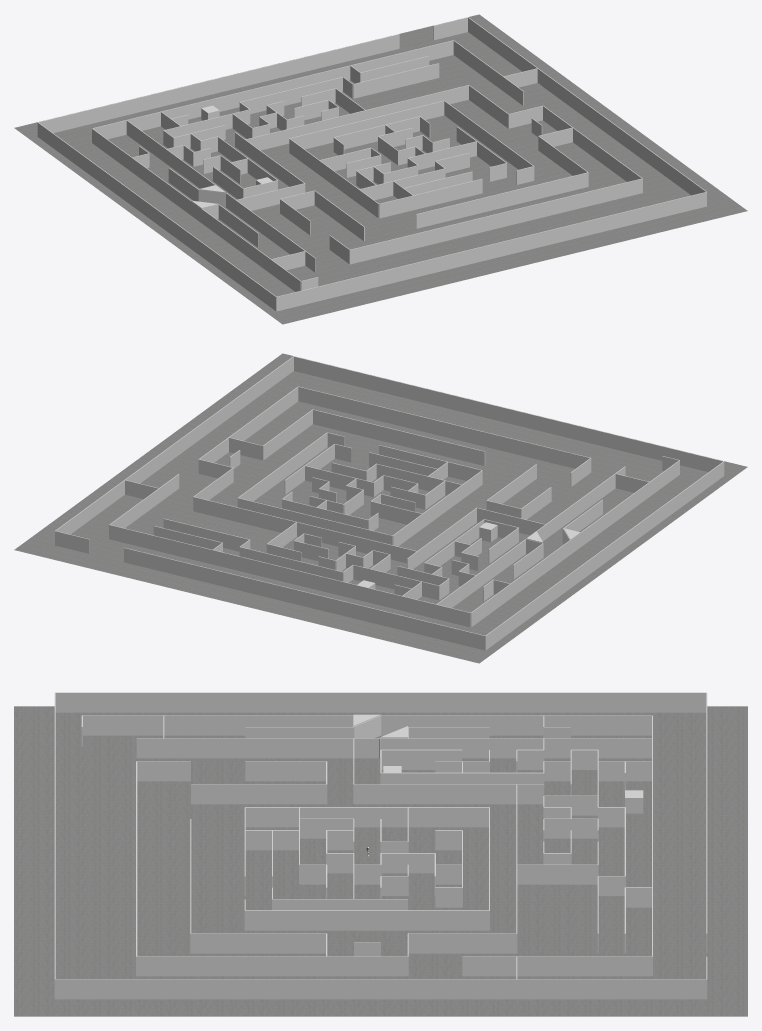
File: mazeTiled.fbx
3 renders of one model, top to bottom at view 1: azimuth 30°, elevation 25°; view 2: azimuth 150°, elevation 25°; view 3: azimuth 270°, elevation 25°, orthographic. The views are drawn at different scales.
Parts seen in each view (by area): view 1: Plane, Cube.023, Cube.005, Cube.139, Cube.140, Cube.137, Cube.138, Cube.141, Cube.051, Cube.033, Cube.144, Cube.143 (+14 smaller); view 2: Plane, Cube.023, Cube.005, Cube.127, Cube.059, Cube.126, Cube.128, Cube.129, Cube.130, Cube.098, Cube.139, Cube.140 (+14 smaller); view 3: Plane, Cube.038, Cube.036, Cube.088, Cube.048, Cube.044, Cube.136, Cube.223, Cube.104, Cube.142, Cube.092, Cube.042 (+93 smaller).
Part boxes in pixels (x1,y1,x2,y2): Plane: (14, 14, 747, 324); Cube.023: (334, 116, 419, 149); Cube.005: (409, 141, 476, 169); Cube.139: (447, 214, 496, 240); Cube.140: (496, 202, 545, 228); Cube.137: (350, 238, 398, 264); Cube.138: (399, 226, 447, 252); Cube.141: (545, 190, 593, 216); Cube.051: (594, 178, 642, 204); Cube.033: (416, 172, 588, 228); Cube.144: (459, 193, 502, 218); Cube.143: (416, 204, 459, 228); Plane: (14, 353, 747, 663); Cube.023: (282, 499, 368, 529); Cube.005: (305, 466, 373, 496); Cube.127: (212, 550, 264, 576); Cube.059: (419, 600, 470, 627); Cube.126: (161, 537, 212, 564); Cube.128: (264, 562, 315, 589); Cube.129: (316, 575, 367, 601); Cube.130: (367, 588, 418, 614); Cube.098: (109, 525, 160, 551); Cube.139: (444, 422, 493, 448); Cube.140: (395, 410, 444, 436); Plane: (14, 706, 747, 1016); Cube.038: (408, 933, 516, 953); Cube.036: (326, 956, 407, 976); Cube.088: (517, 864, 598, 884); Cube.048: (82, 715, 163, 735); Cube.044: (245, 761, 325, 781); Cube.136: (164, 715, 236, 735); Cube.223: (258, 784, 326, 804); Cube.104: (204, 956, 272, 976); Cube.142: (136, 956, 204, 976); Cube.092: (381, 749, 462, 769); Cube.042: (191, 784, 258, 804).
Bounding box in the file's own units: 27035 × 895 × 27035.
